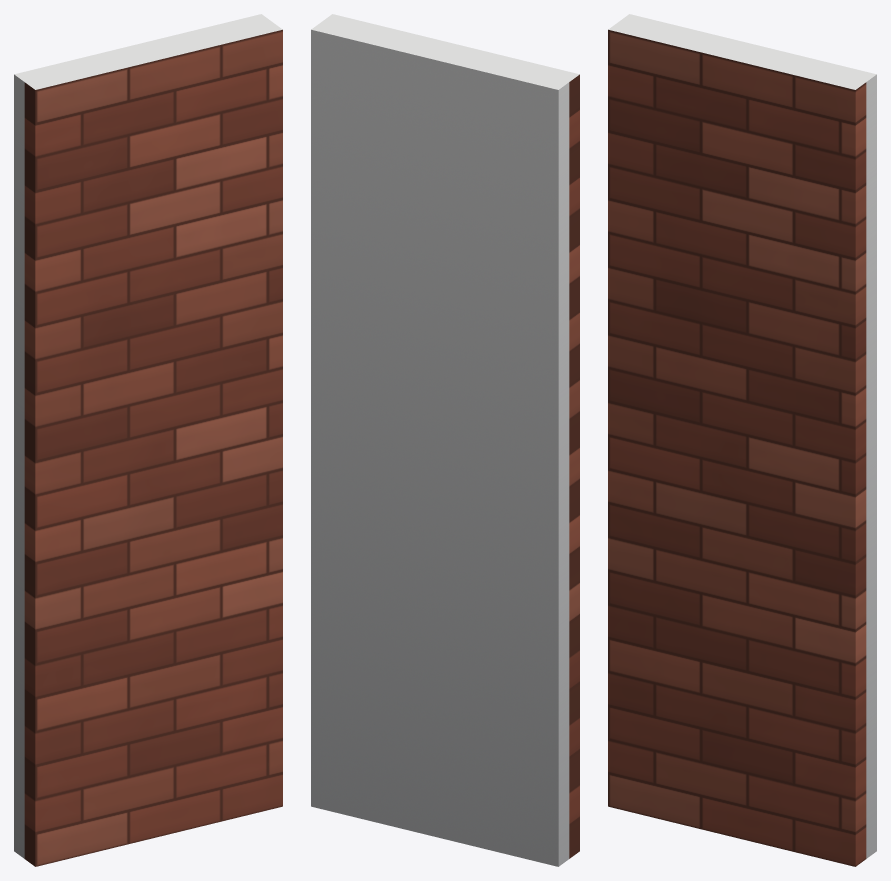
Rendered from parede_1m.glb.
3 renders of one model, left to right at view 1: azimuth 30°, elevation 25°; view 2: azimuth 150°, elevation 25°; view 3: azimuth 330°, elevation 25°, orthographic.
Parts seen in each view (by area): view 1: parede_1m; view 2: parede_1m; view 3: parede_1m.
Boxes of the visible parts, x1,y1,x2,y2 form: parede_1m: (14,14,282,866); parede_1m: (311,14,579,866); parede_1m: (608,14,876,866).
Size of the model in its own units: 1 by 3 by 0.15.
3 materials, 2 textured.
